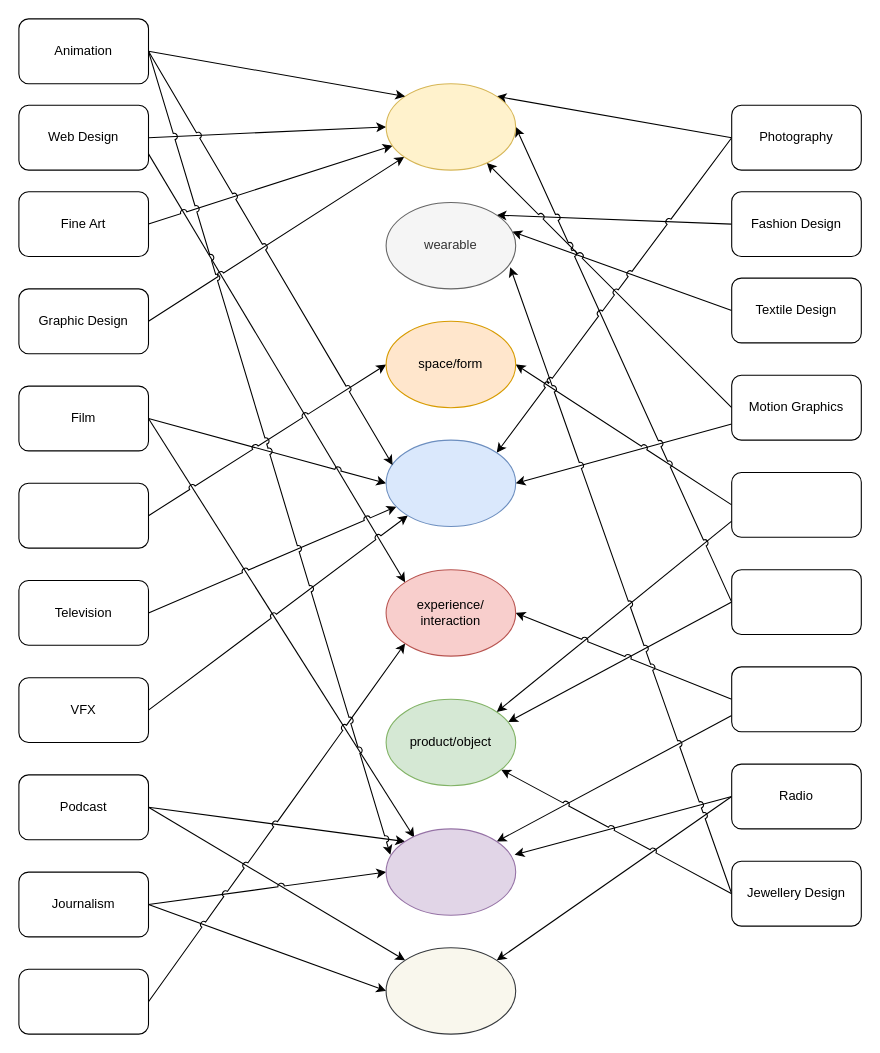
Image size: 880x1053. Some labels were removed from this diagram. Here are the shapes that lost their labels. From the top down, the centre of each, then its label:
At point (450, 126): "image/mark".
At point (450, 482): "moving image".
At point (83, 515): "Interior Design".
At point (796, 504): "Product Design".
At point (796, 601): "Ceramic Design".
At point (796, 699): "Game Design".
At point (450, 871): "text/narrative".
At point (83, 1001): "App Design".
At point (450, 990): "audio/sound".
